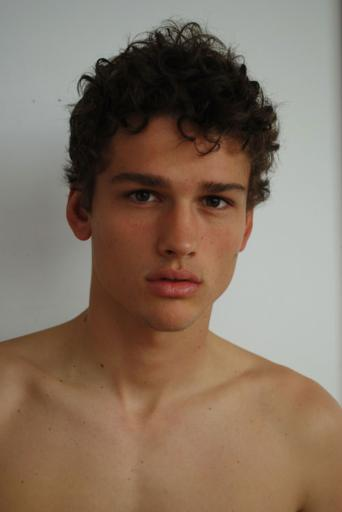left_eye: (197, 195, 236, 214)
left_lip_corner: (197, 278, 208, 291)
right_eye: (119, 187, 166, 208)
right_lip_corner: (143, 275, 155, 289)
